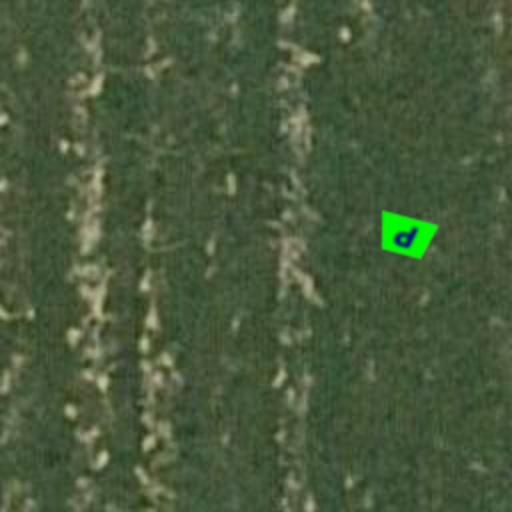trapezoid: (370, 200, 442, 272)
